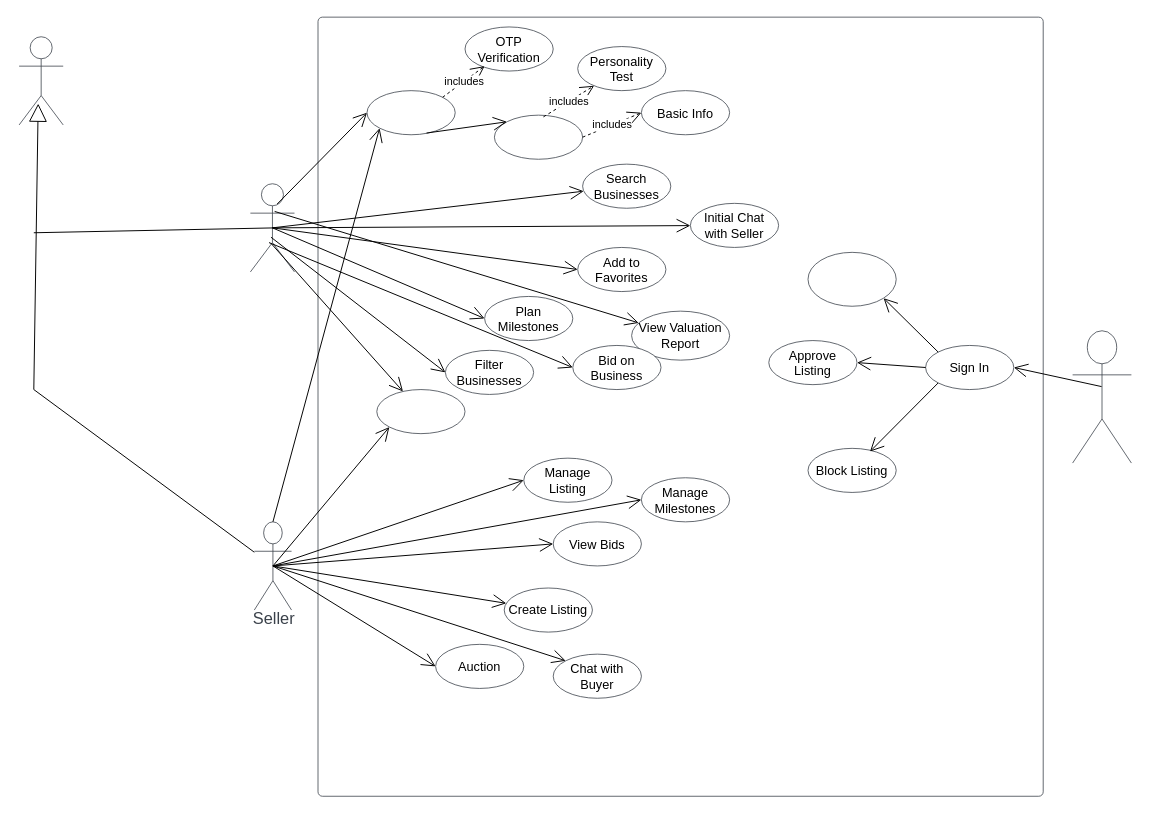
Some shapes in this 1149 by 813 pixel diagram are drawn without their labels. Each missing label, with the centre of its shape:
Admin: point 1101,396
Buyer: point 272,227
Login: point 420,411
On Boarding: point 538,136
Register: point 410,112
User: point 40,80
Verify Valuation Report: point 851,278
